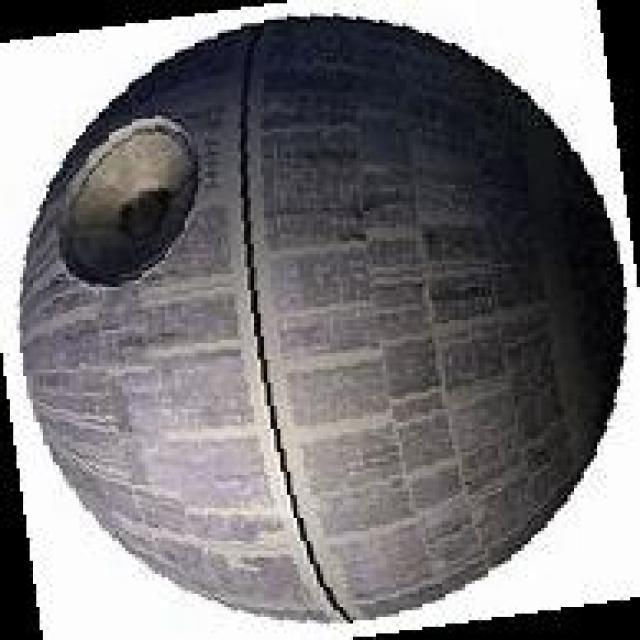Death Star: (13, 6, 630, 626)
